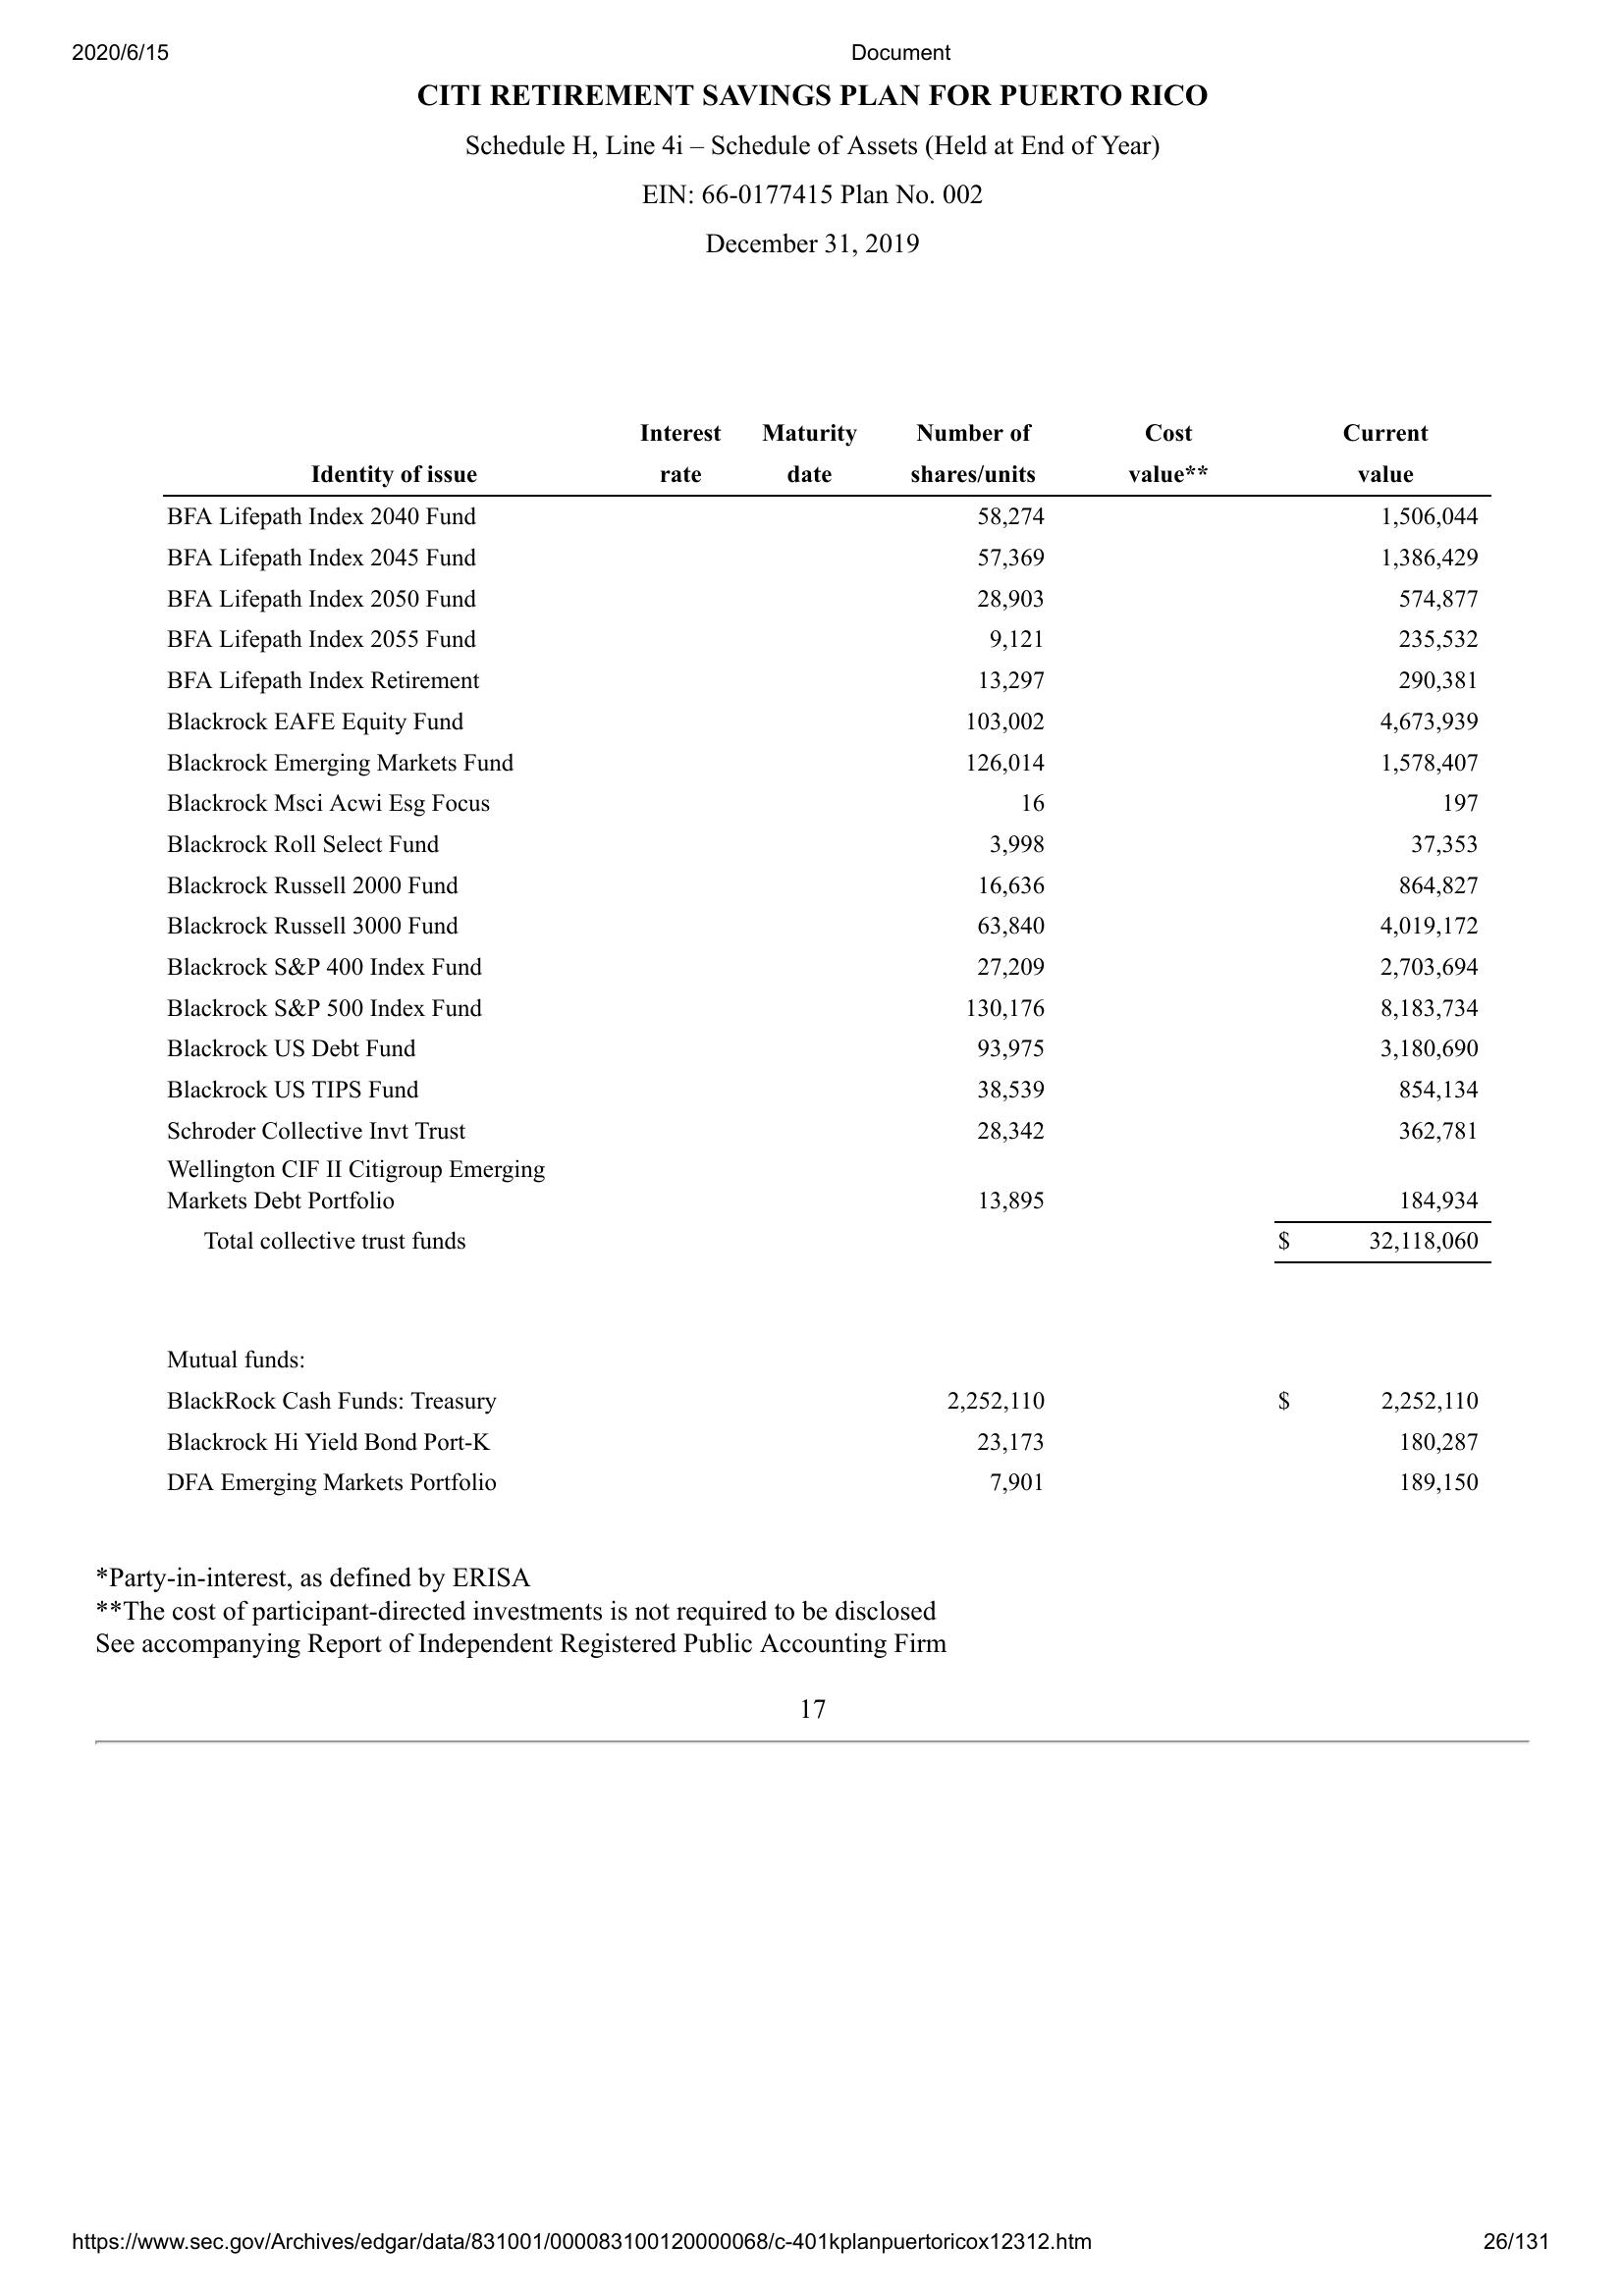table: (156, 420, 1495, 1499)
